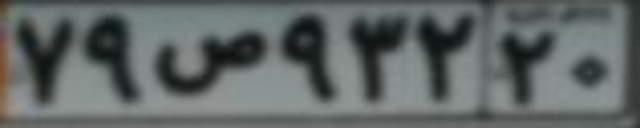0: (569, 58, 608, 84)
2: (416, 11, 473, 101), (500, 31, 556, 104)
3: (347, 16, 411, 101)
7: (12, 18, 80, 103)
9: (84, 15, 141, 101), (280, 13, 335, 100)
saat: (151, 29, 265, 91)
